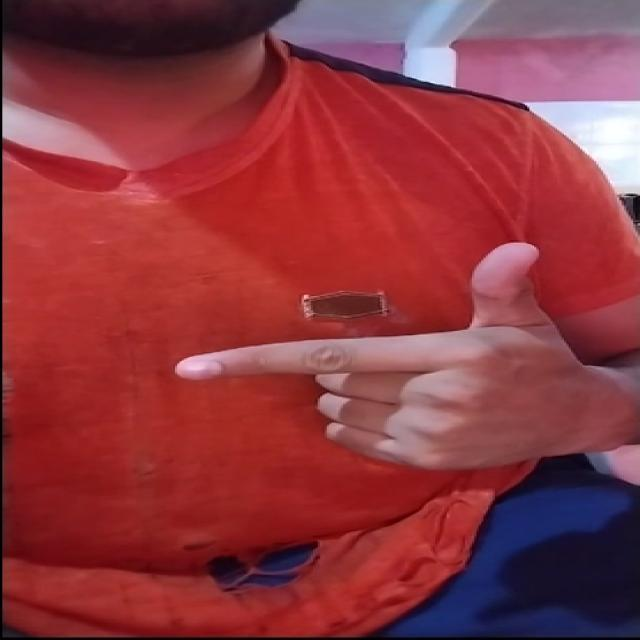G: (148, 230, 640, 477)
